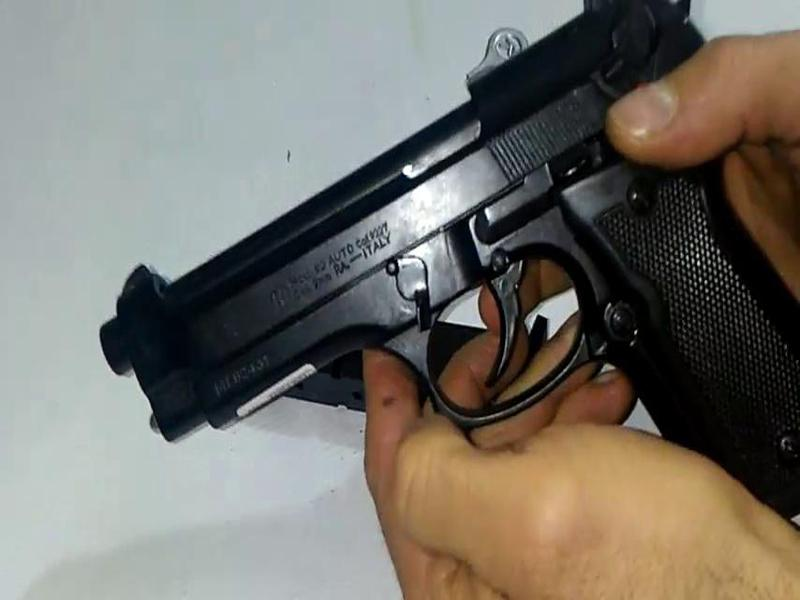Pistola: (87, 16, 800, 532)
